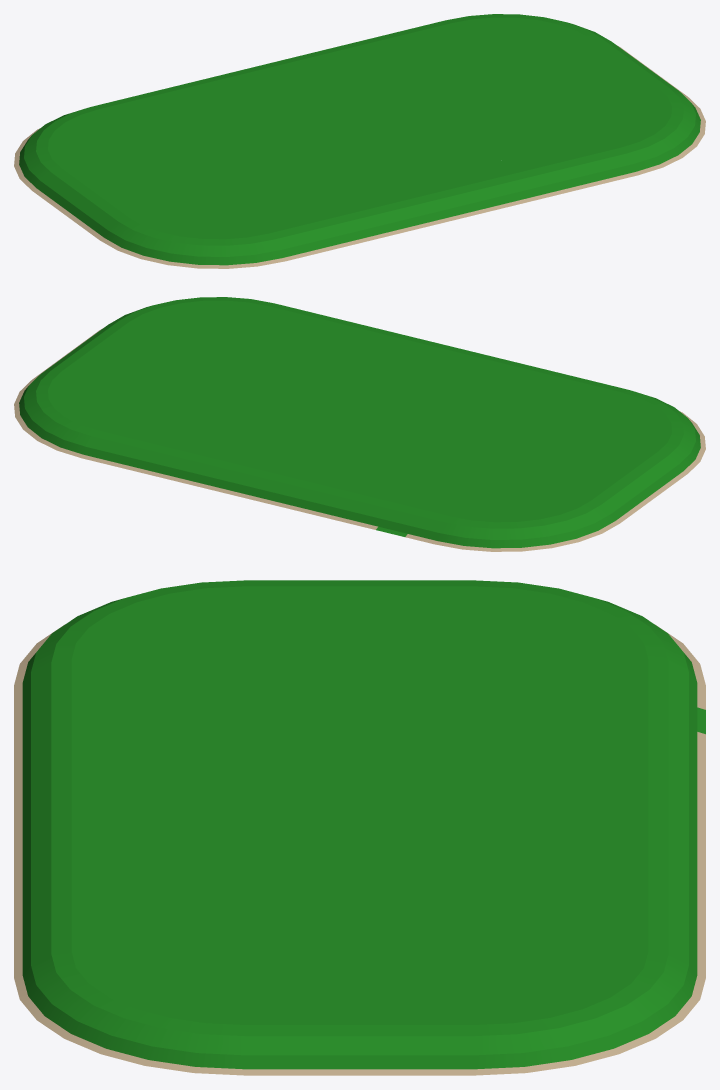
Rendered from racetrack_plain_grass.glb.
3 views of the same model, one above another, from view 1: azimuth 30°, elevation 25°; view 2: azimuth 150°, elevation 25°; view 3: azimuth 270°, elevation 25° (orthographic). The views are drawn at different scales.
Visible parts, largest first — view 1: track; view 2: track; view 3: track.
Boxes of the visible parts, x1=… form: track: x1=14, y1=14, x2=705, y2=268; track: x1=14, y1=297, x2=705, y2=551; track: x1=14, y1=580, x2=705, y2=1075.
Size of the model in its own units: 20 by 0.5 by 12.
